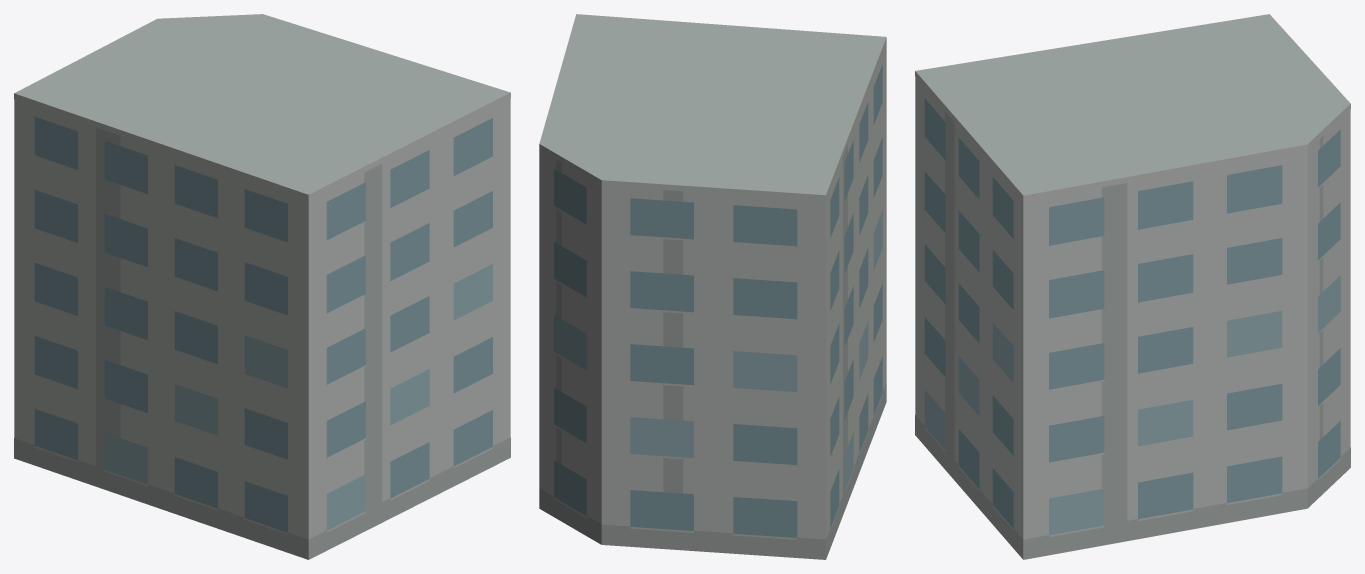
The model's file is survey-upis-32758528.glb.
3 views of the same model, side by side, from view 1: azimuth 30°, elevation 25°; view 2: azimuth 150°, elevation 25°; view 3: azimuth 270°, elevation 25° (orthographic).
Parts seen in each view (by area): view 1: survey-upis-32758528.tmp; view 2: survey-upis-32758528.tmp; view 3: survey-upis-32758528.tmp.
Part boxes in pixels (left/top/right/bottom): survey-upis-32758528.tmp: left=14, top=14, right=510, bottom=559; survey-upis-32758528.tmp: left=539, top=14, right=886, bottom=559; survey-upis-32758528.tmp: left=915, top=14, right=1350, bottom=559.
Bounding box in the file's own units: 16.33 × 15.25 × 16.54.
